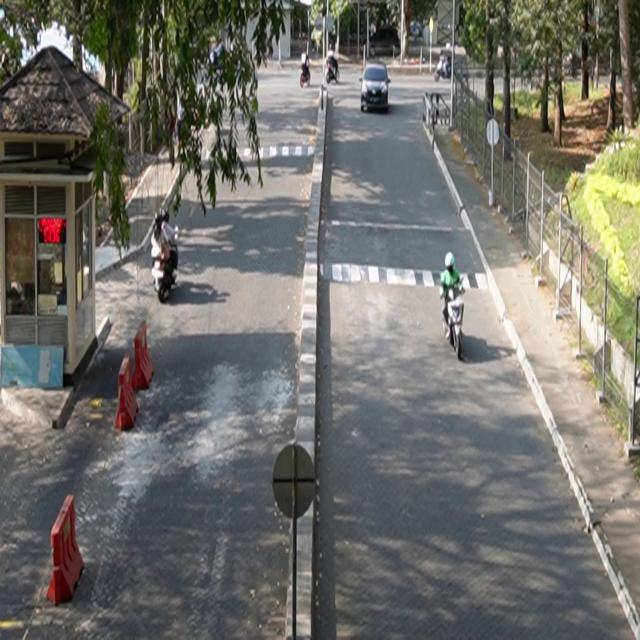car: (360, 62, 392, 114)
